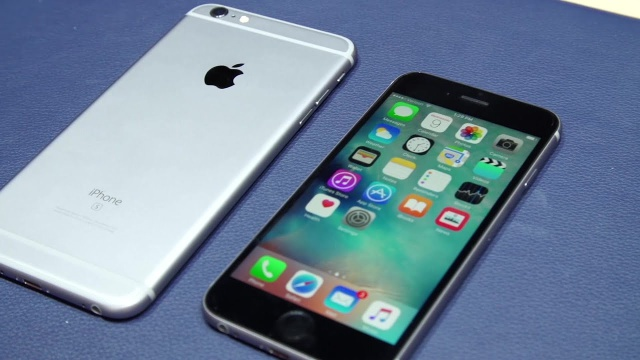apple: (183, 51, 263, 95)
